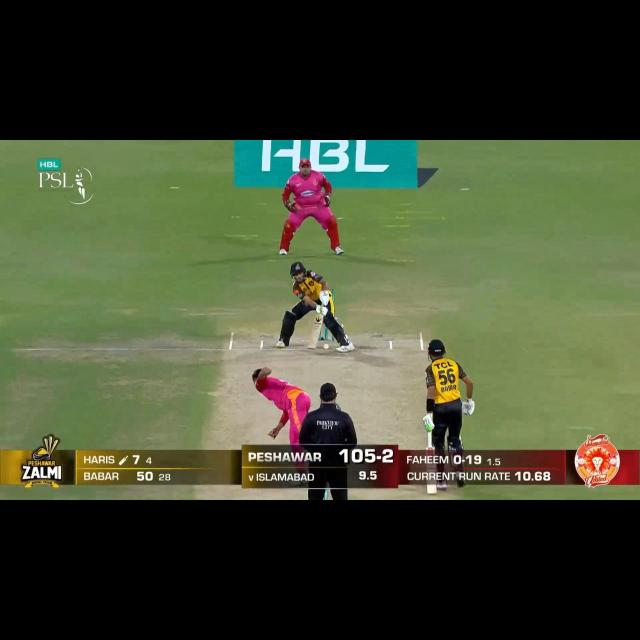bat: (307, 312, 323, 352)
toe: (427, 484, 439, 496), (306, 342, 316, 350)
